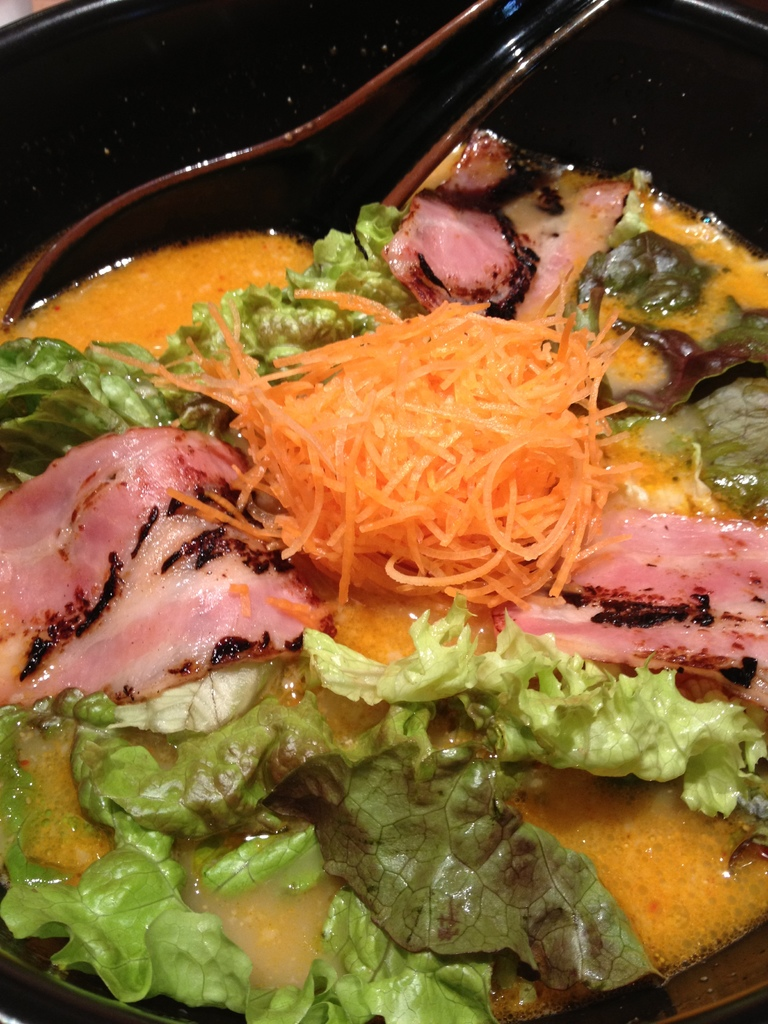salad: (0, 116, 767, 1023)
